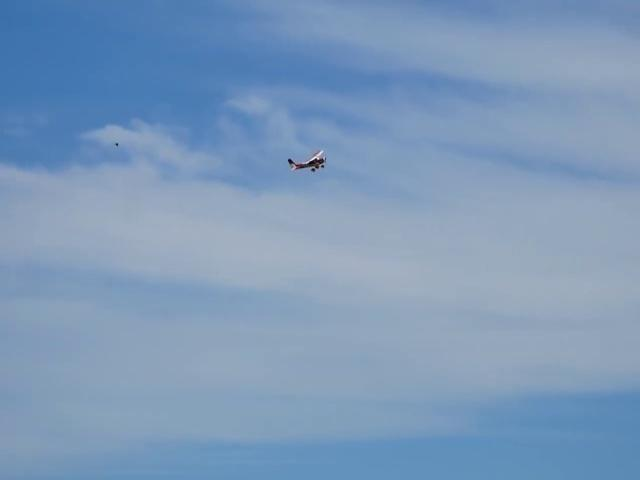Airplane: (288, 149, 326, 171)
